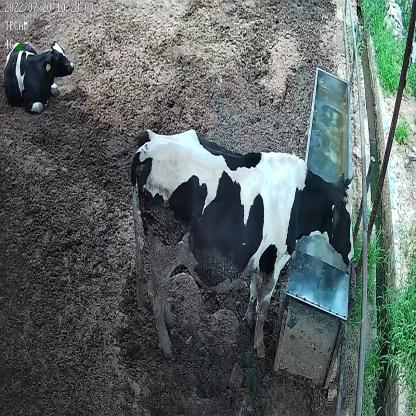cow: (127, 128, 356, 361), (4, 30, 74, 111)
